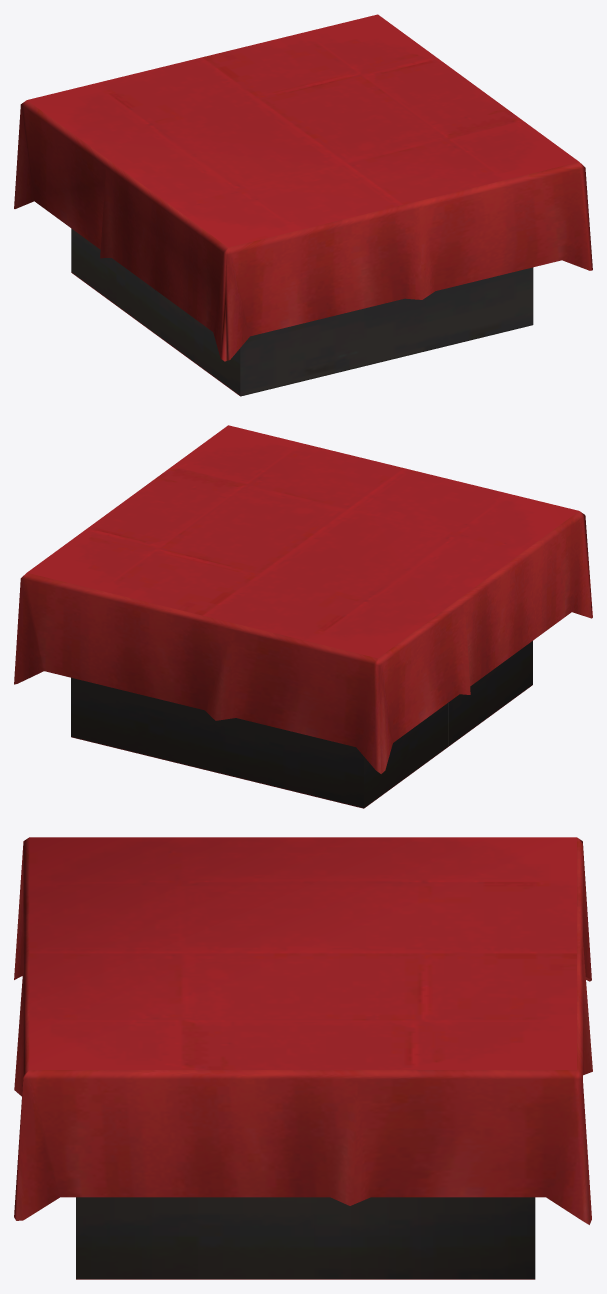
File: table_square_lg_club.fbx
3 renders of one model, top to bottom at view 1: azimuth 30°, elevation 25°; view 2: azimuth 150°, elevation 25°; view 3: azimuth 270°, elevation 25°, orthographic. The views are drawn at different scales.
Visible parts, largest first — view 1: mesh_0; view 2: mesh_0; view 3: mesh_0.
Boxes of the visible parts, box(x1,y1,x2,y2) form: mesh_0: box(14, 14, 592, 396); mesh_0: box(14, 425, 592, 808); mesh_0: box(14, 837, 592, 1279).
Size of the model in its own units: 127 by 55.02 by 126.
1 material, 1 textured.
